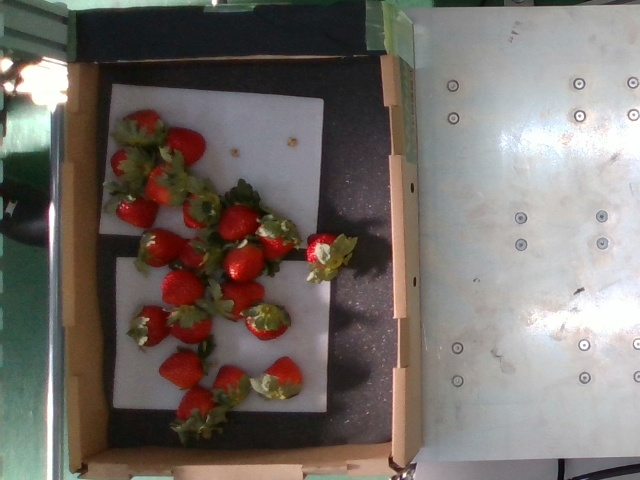strawberry: (217, 279, 267, 320), (132, 305, 178, 347), (161, 127, 206, 168), (140, 230, 188, 267), (218, 202, 262, 242), (120, 109, 162, 150), (177, 386, 219, 427), (260, 357, 303, 397), (159, 352, 206, 388), (145, 164, 185, 206), (259, 218, 295, 262), (246, 304, 290, 340), (170, 308, 212, 345), (110, 148, 150, 186), (224, 245, 264, 283), (116, 193, 158, 229), (162, 269, 204, 305), (305, 233, 344, 271), (182, 191, 217, 231), (211, 366, 248, 402), (178, 237, 213, 271)
